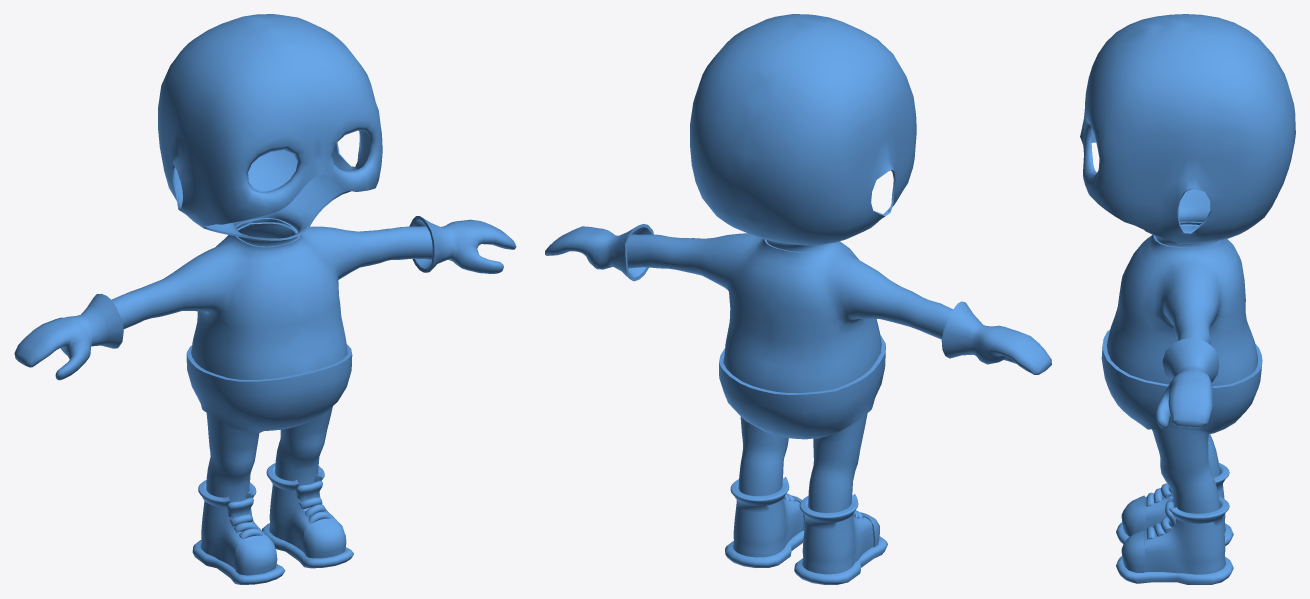
The model's file is HeroCostume.fbx.
The picture shows the model from 3 angles, left to right: view 1: azimuth 30°, elevation 25°; view 2: azimuth 150°, elevation 25°; view 3: azimuth 270°, elevation 25°; orthographic projection.
Visible parts, largest first — view 1: SM_HeroCostume_Body, SM_HeroCostume_Interfaz, SM_HeroCostume_Shoes, SM_HeroCostume_Gloves; view 2: SM_HeroCostume_Interfaz, SM_HeroCostume_Body, SM_HeroCostume_Shoes, SM_HeroCostume_Gloves; view 3: SM_HeroCostume_Interfaz, SM_HeroCostume_Body, SM_HeroCostume_Shoes, SM_HeroCostume_Gloves.
Part boxes in pixels (x1,y1,x2,y2): SM_HeroCostume_Body: (112, 218, 432, 501); SM_HeroCostume_Interfaz: (158, 14, 382, 246); SM_HeroCostume_Shoes: (192, 463, 353, 584); SM_HeroCostume_Gloves: (14, 216, 516, 380); SM_HeroCostume_Interfaz: (690, 14, 916, 251); SM_HeroCostume_Body: (626, 233, 953, 512); SM_HeroCostume_Shoes: (725, 477, 887, 584); SM_HeroCostume_Gloves: (545, 224, 1051, 374); SM_HeroCostume_Interfaz: (1080, 14, 1295, 247); SM_HeroCostume_Body: (1101, 221, 1262, 513); SM_HeroCostume_Shoes: (1116, 463, 1233, 584); SM_HeroCostume_Gloves: (1156, 338, 1219, 428).
Size of the model in its own units: 264 by 271 by 99.8.
